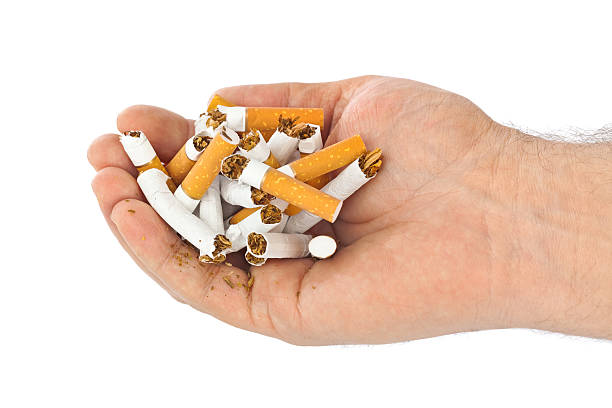cigarette: (135, 168, 230, 263), (284, 147, 385, 234), (238, 159, 345, 224), (174, 126, 240, 214), (193, 112, 227, 264), (279, 134, 367, 184), (117, 129, 179, 196), (225, 203, 284, 255), (214, 106, 326, 133), (165, 135, 210, 186), (211, 174, 277, 207), (246, 231, 317, 258), (237, 129, 281, 169), (266, 120, 299, 169), (310, 221, 339, 259), (297, 123, 325, 159), (219, 154, 249, 180), (205, 91, 237, 115), (244, 251, 269, 267)
